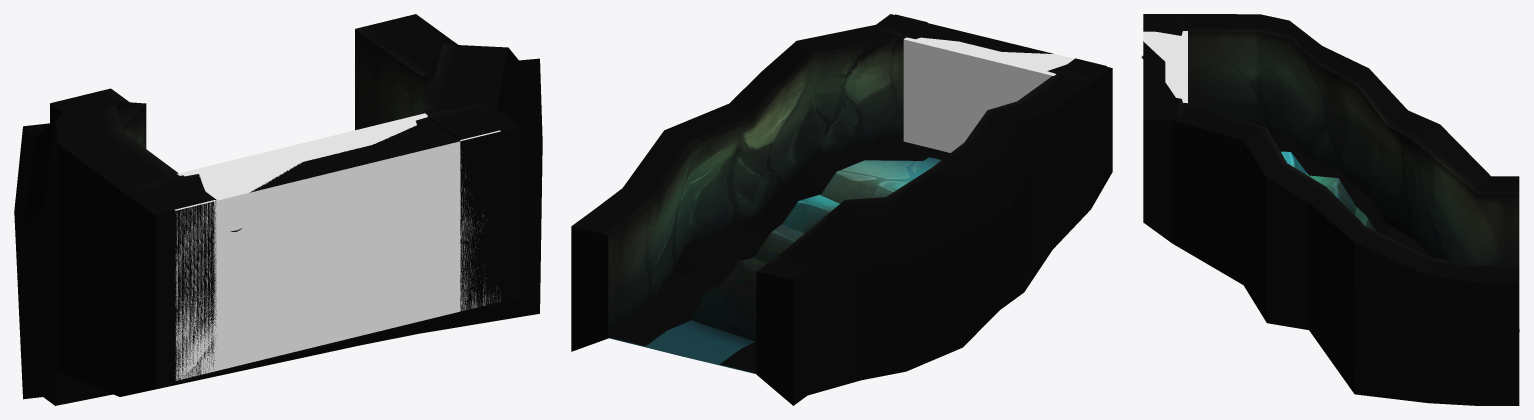
File: Dungeon_073_GoalStepD_003.fbx
3 renders of one model, left to right at view 1: azimuth 30°, elevation 25°; view 2: azimuth 150°, elevation 25°; view 3: azimuth 270°, elevation 25°, orthographic. The views are drawn at different scales.
Parts seen in each view (by area): view 1: Dun_073_StepD_001_wall, DoorWay_NavMask (3), DoorWay_NavMask (1), Dun_073_Door_002, DoorWay_NavMask (2), DoorWay_NavMask (4); view 2: Dun_073_StepD_001_wall, Dun_073_StepD_001_shadow, Dun_073_StepD_001_ground, DoorWay_NavMask (1), Dun_073_Door_002, DoorWay_NavMask (2); view 3: Dun_073_StepD_001_wall, Dun_073_Door_002, Dun_073_StepD_001_shadow, DoorWay_NavMask (1), Dun_073_StepD_001_ground, DoorWay_NavMask (3), DoorWay_NavMask (2).
Boxes of the visible parts, bbox=[...] form: Dun_073_StepD_001_wall: bbox=[14, 14, 542, 405]; DoorWay_NavMask (3): bbox=[174, 130, 500, 380]; DoorWay_NavMask (1): bbox=[177, 113, 461, 371]; Dun_073_Door_002: bbox=[131, 103, 512, 372]; DoorWay_NavMask (2): bbox=[181, 165, 278, 191]; DoorWay_NavMask (4): bbox=[358, 115, 426, 146]; Dun_073_StepD_001_wall: bbox=[571, 14, 1112, 405]; Dun_073_StepD_001_shadow: bbox=[609, 140, 939, 373]; Dun_073_StepD_001_ground: bbox=[609, 157, 986, 373]; DoorWay_NavMask (1): bbox=[903, 37, 1073, 152]; Dun_073_Door_002: bbox=[876, 14, 1106, 140]; DoorWay_NavMask (2): bbox=[1013, 53, 1066, 74]; Dun_073_StepD_001_wall: bbox=[1143, 14, 1519, 405]; Dun_073_Door_002: bbox=[1143, 15, 1185, 116]; Dun_073_StepD_001_shadow: bbox=[1271, 135, 1432, 257]; DoorWay_NavMask (1): bbox=[1143, 31, 1187, 103]; Dun_073_StepD_001_ground: bbox=[1281, 151, 1519, 331]; DoorWay_NavMask (3): bbox=[1143, 31, 1171, 89]; DoorWay_NavMask (2): bbox=[1149, 31, 1186, 54].
Size of what is drawn, in the model's own units: 7.09 by 4.45 by 6.77.
